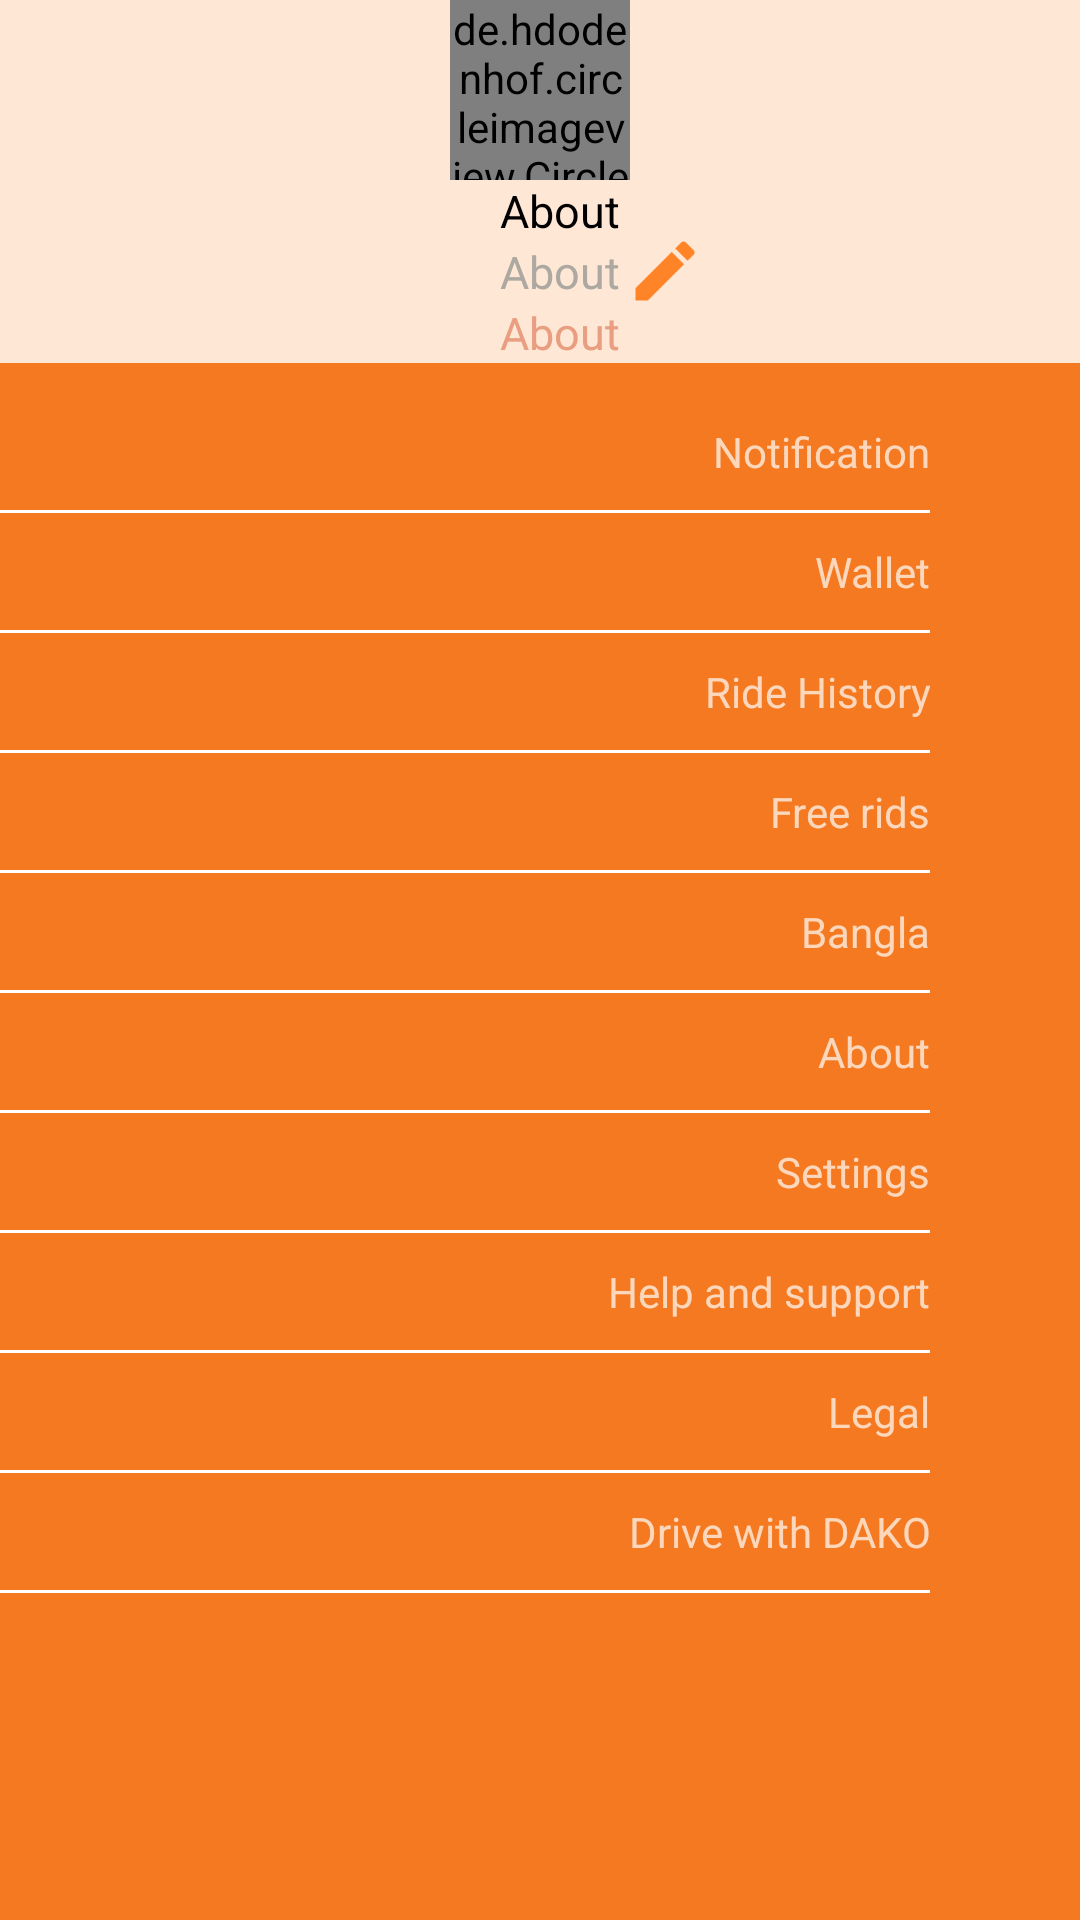

Named icons in this screenshot (1080 x 1920) and their centers, (x=x, y=y):
pen: (x=665, y=271)
